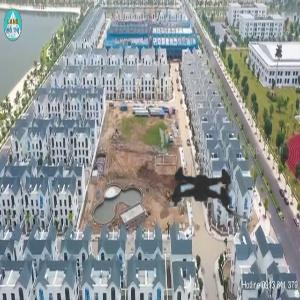drone: (125, 113, 274, 262)
